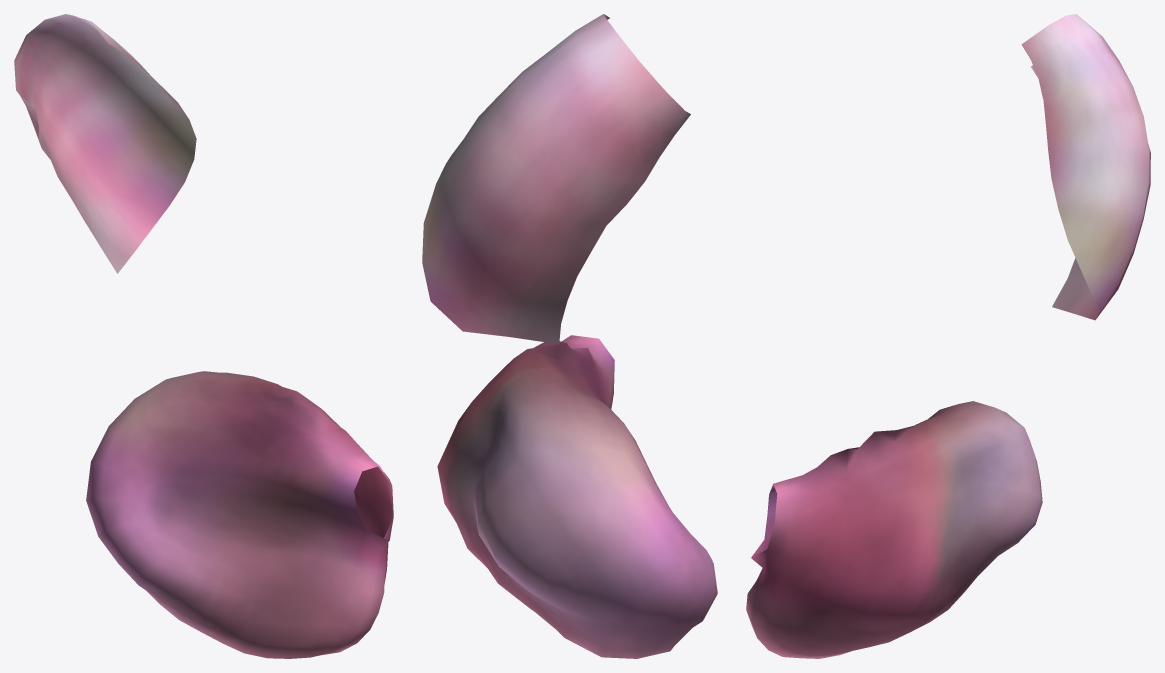
The model's file is amygdala.obj.
3 views of the same model, side by side, from view 1: azimuth 30°, elevation 25°; view 2: azimuth 150°, elevation 25°; view 3: azimuth 270°, elevation 25° (orthographic). The views are drawn at different scales.
Visible parts, largest first — view 1: Amygd, caudate:head; view 2: Amygd, caudate:head; view 3: Amygd, caudate:head.
Part boxes in pixels (box(x1,y1,x2,y2)): Amygd: box(86, 371, 393, 658); caudate:head: box(14, 14, 196, 273); Amygd: box(437, 335, 717, 658); caudate:head: box(422, 14, 690, 344); Amygd: box(746, 401, 1042, 658); caudate:head: box(1021, 14, 1150, 320).
Size of the model in its own units: 245 by 528 by 328.
1 material, 1 textured.
